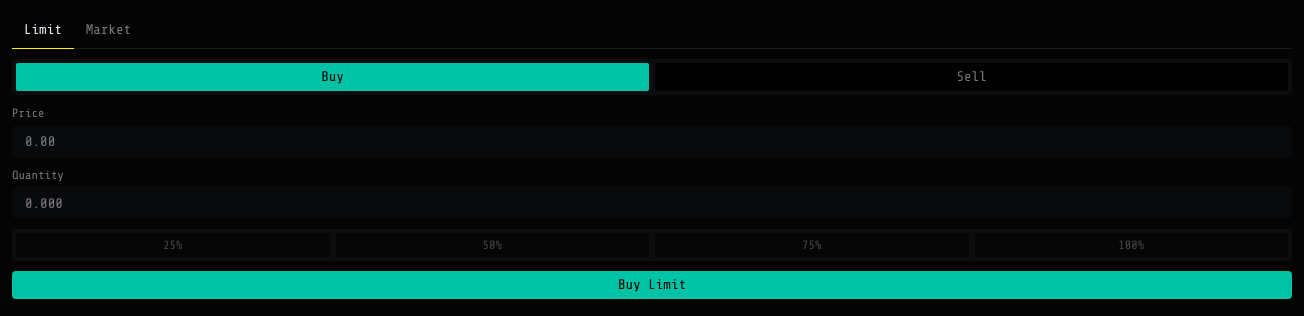
OrderForm › hides price field in market tab
Expected: the number field labelled "Price" is shown, [12,125,1292,157]
Switch to market
Click the tab "Market".
click(108, 30)  # box [74,12,143,49]
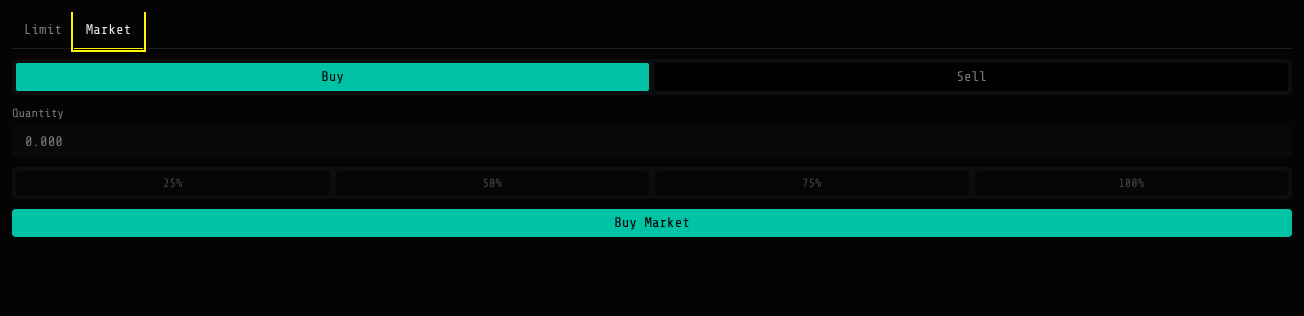
Expected: the label labelled "Price" is gone
